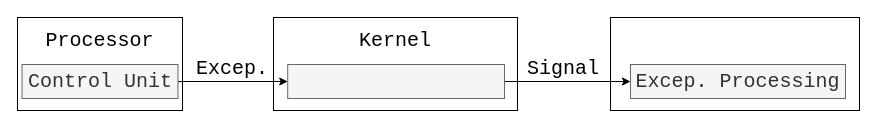
The diagram is 877 pixels wide and 128 high, and some of its shapes have lost their labels. The shapes that lost their labels are listed below. From the top down, each one's box as (x1, y1, x2, y2) in pixels, then its label:
(287, 64, 504, 98): Exception Handler
(610, 16, 860, 110): Application
